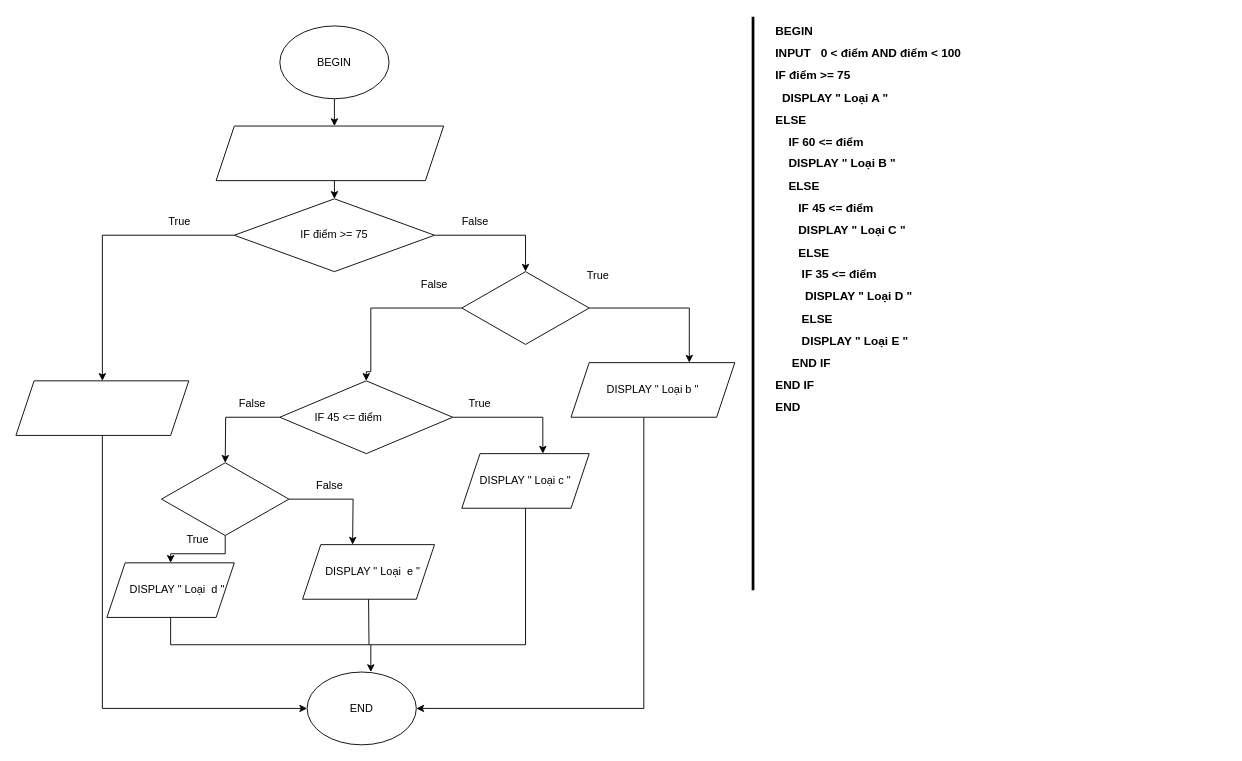
Some shapes in this 1242 by 761 pixel diagram are drawn without their labels. The centre of each missing label's shape, as x and y in pixels:
DISPLAY " Loại a ": point 102,407
IF 35 <= điểm: point 225,499
IF 60 <= điểm: point 525,307
INPUT 0 < điểm AND điểm < 100: point 329,153
